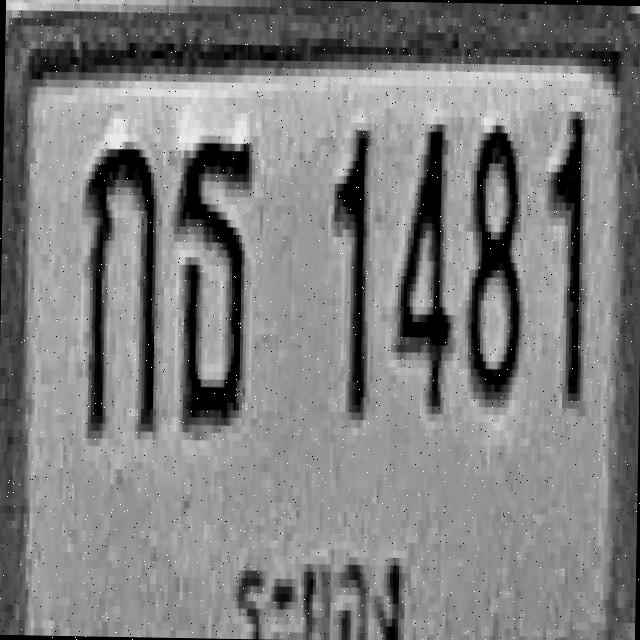1: (327, 122, 371, 420), (545, 107, 586, 405)
10GorGai: (80, 137, 158, 435)
33ThorThong: (172, 131, 254, 429)
4: (392, 120, 454, 410)
8: (466, 116, 524, 400)
Rayong: (228, 516, 411, 640)
